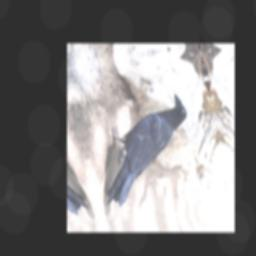Crow: (84, 91, 205, 208)
